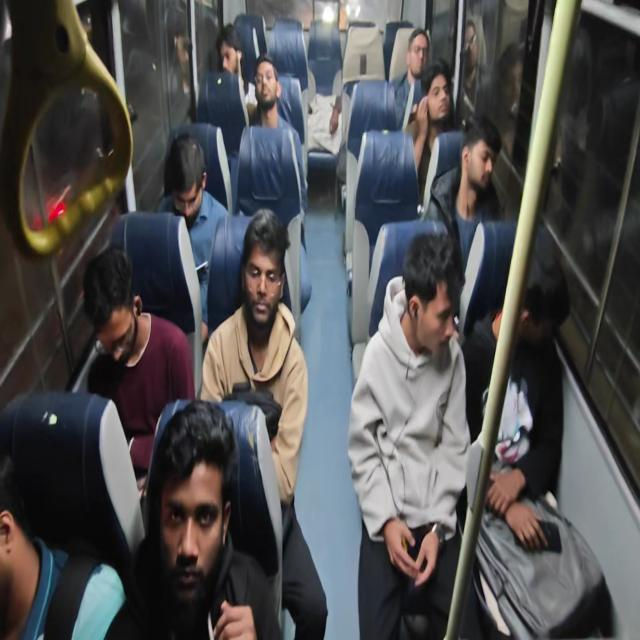person: (200, 207, 328, 638), (347, 230, 472, 638), (460, 220, 570, 638), (103, 399, 281, 638), (82, 244, 195, 491), (0, 457, 126, 639), (156, 132, 229, 339), (423, 113, 504, 280), (247, 54, 308, 230), (404, 58, 456, 200), (488, 42, 525, 159), (390, 26, 430, 130), (165, 8, 195, 128), (215, 23, 256, 110), (458, 18, 487, 122)
